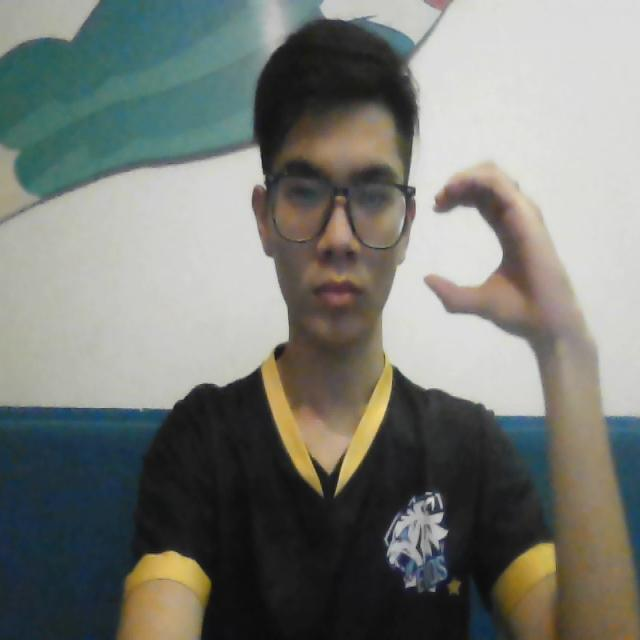C: (418, 152, 558, 336)
